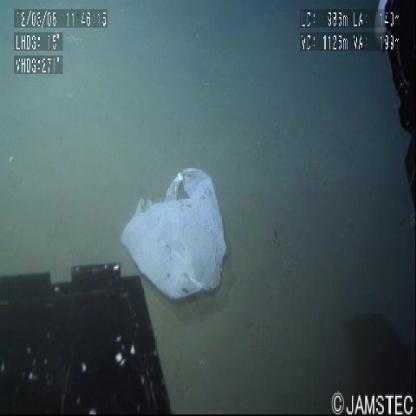Rov: (1, 257, 186, 416), (374, 1, 416, 205)
Rác: (120, 156, 242, 306)
